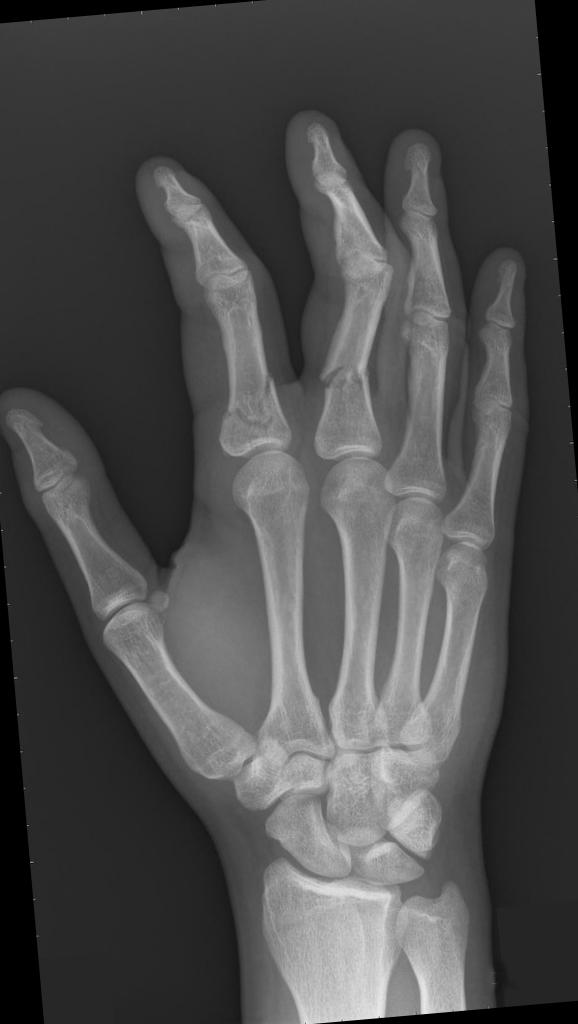fracture: (221, 370, 282, 434), (313, 362, 372, 400)
